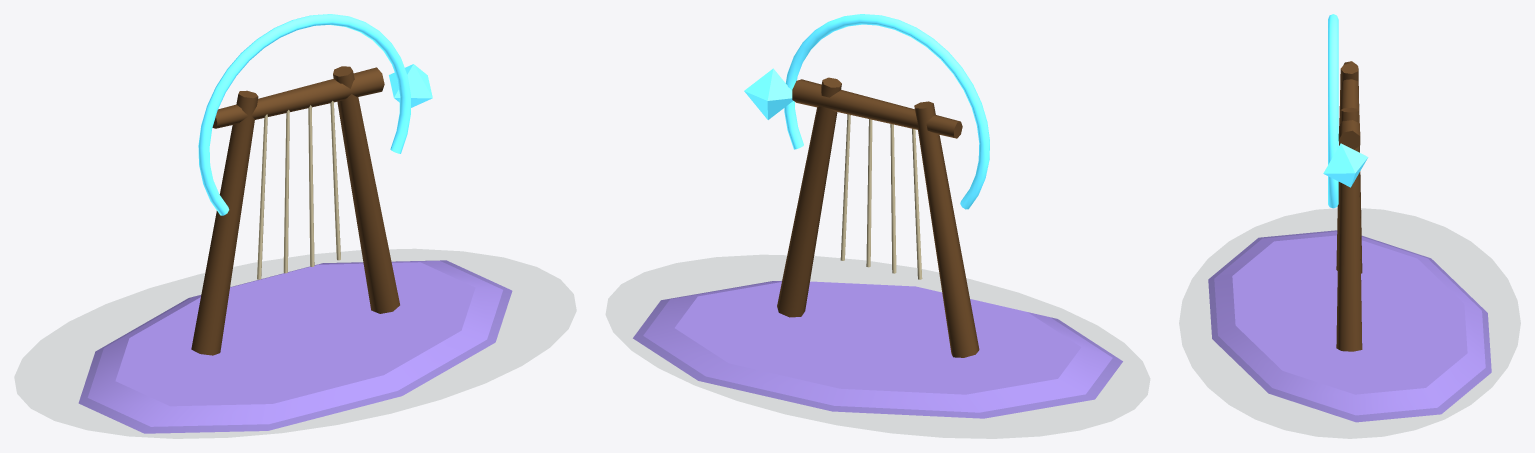
File: traveler_song.glb
3 renders of one model, left to right at view 1: azimuth 30°, elevation 25°; view 2: azimuth 150°, elevation 25°; view 3: azimuth 270°, elevation 25°, orthographic. The views are drawn at different scales.
Parts seen in each view (by area): view 1: song_ground_mat, soft_ground_shadow, song_lyre_left_arm, song_lyre_right_arm, song_echo_ring, song_lyre_crossbar, song_small_note, song_string_0, song_string_1, song_string_2, song_string_3; view 2: song_ground_mat, soft_ground_shadow, song_lyre_left_arm, song_lyre_right_arm, song_echo_ring, song_lyre_crossbar, song_small_note, song_string_0, song_string_1, song_string_2, song_string_3; view 3: song_ground_mat, soft_ground_shadow, song_lyre_right_arm, song_echo_ring, song_lyre_crossbar, song_small_note, song_lyre_left_arm.
Boxes of the visible parts, x1,y1,x2,y2 form: song_ground_mat: [78, 260, 512, 433]; soft_ground_shadow: [15, 249, 575, 438]; song_lyre_left_arm: [191, 90, 258, 355]; song_lyre_right_arm: [333, 66, 399, 313]; song_echo_ring: [198, 14, 410, 215]; song_lyre_crossbar: [212, 67, 384, 128]; song_small_note: [389, 64, 432, 107]; song_string_0: [257, 114, 267, 279]; song_string_1: [283, 110, 289, 273]; song_string_2: [308, 105, 314, 266]; song_string_3: [330, 101, 340, 260]; song_ground_mat: [633, 280, 1122, 418]; soft_ground_shadow: [606, 255, 1149, 438]; song_lyre_left_arm: [914, 101, 979, 357]; song_lyre_right_arm: [777, 77, 841, 317]; song_echo_ring: [784, 14, 989, 209]; song_lyre_crossbar: [792, 79, 962, 138]; song_small_note: [744, 68, 792, 119]; song_string_0: [912, 128, 922, 279]; song_string_1: [890, 124, 896, 273]; song_string_2: [866, 119, 872, 267]; song_string_3: [840, 114, 850, 260]; song_ground_mat: [1208, 230, 1491, 422]; soft_ground_shadow: [1179, 209, 1520, 438]; song_lyre_right_arm: [1336, 107, 1362, 351]; song_echo_ring: [1328, 14, 1338, 208]; song_lyre_crossbar: [1338, 61, 1360, 149]; song_small_note: [1323, 143, 1368, 187]; song_lyre_left_arm: [1336, 63, 1362, 273].
Bounding box in the file's own units: 2.62 × 1.59 × 1.64.
